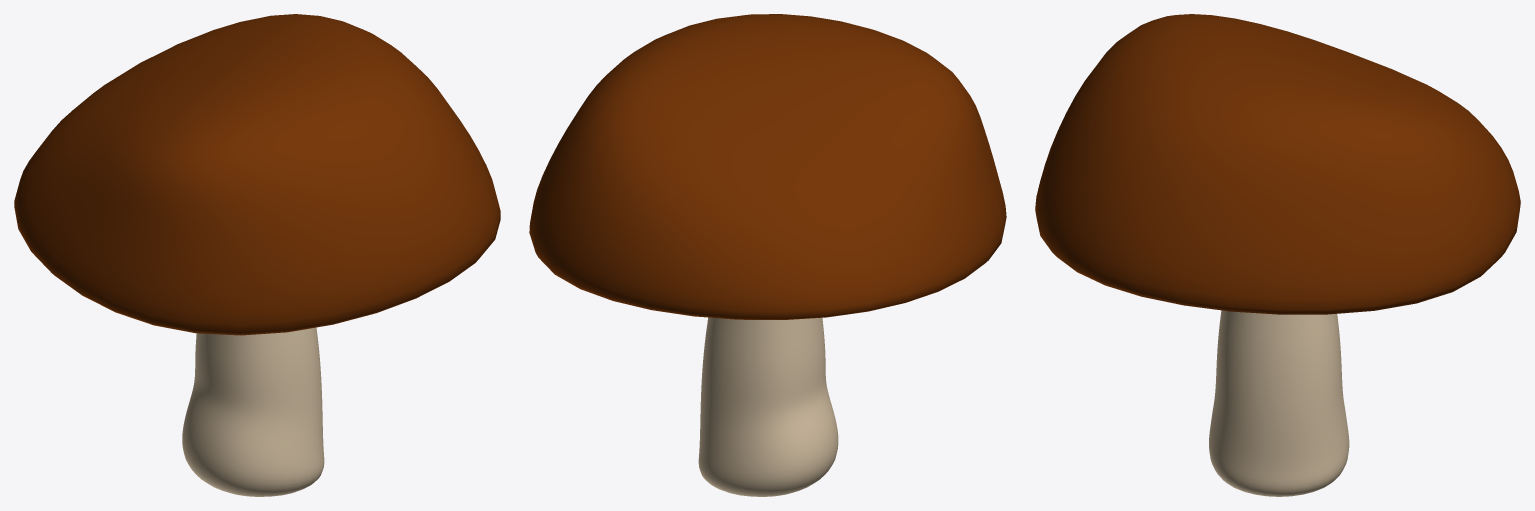
File: Fungi.fbx
3 views of the same model, side by side, from view 1: azimuth 30°, elevation 25°; view 2: azimuth 150°, elevation 25°; view 3: azimuth 270°, elevation 25° (orthographic).
Visible parts, largest first — view 1: Cube; view 2: Cube; view 3: Cube.
Boxes of the visible parts, <box> form: Cube: <box>14,14,500,496</box>; Cube: <box>529,14,1006,496</box>; Cube: <box>1035,14,1520,496</box>.
Bounding box in the file's own units: 605 × 611 × 625.
